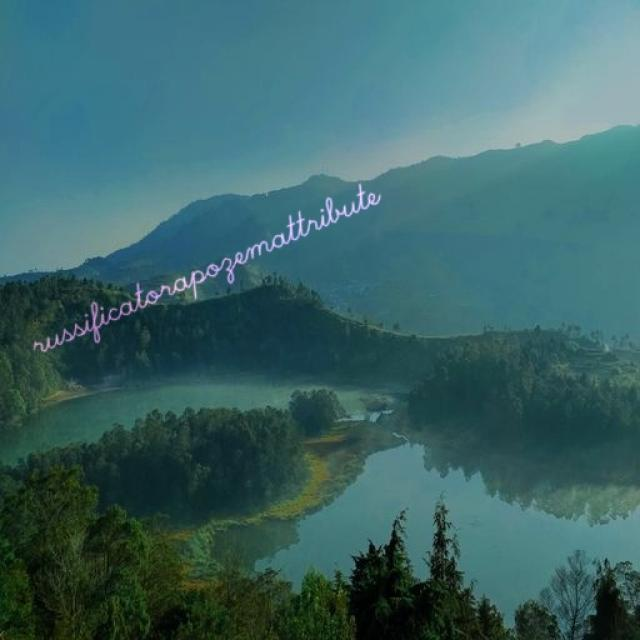watermark: (28, 173, 381, 360)
